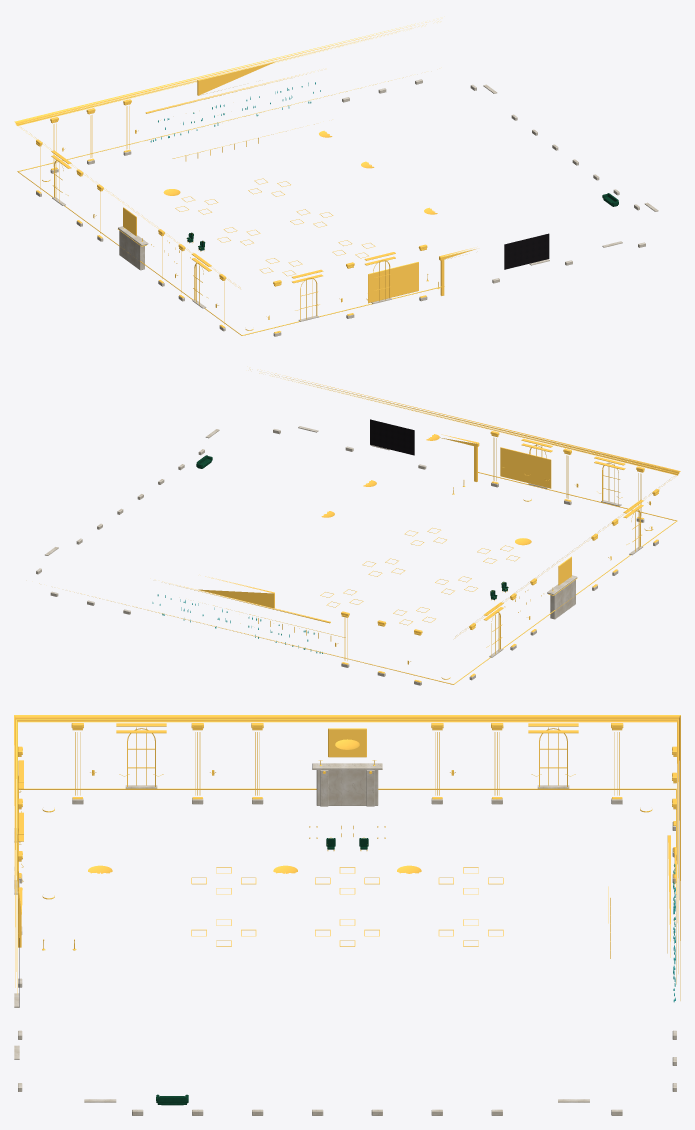
Rendered from lb4_lounge_p3.glb.
3 renders of one model, top to bottom at view 1: azimuth 30°, elevation 25°; view 2: azimuth 150°, elevation 25°; view 3: azimuth 270°, elevation 25°, orthographic. The views are drawn at different scales.
Visible parts, largest first — view 1: lb4_lounge_p3; view 2: lb4_lounge_p3; view 3: lb4_lounge_p3.
Boxes of the visible parts, bbox=[...] form: lb4_lounge_p3: bbox=[14, 21, 658, 336]; lb4_lounge_p3: bbox=[36, 369, 680, 685]; lb4_lounge_p3: bbox=[14, 715, 680, 1115].
Bounding box in the file's own units: 72.7 × 9.48 × 64.76.
5 materials, 3 textured.
